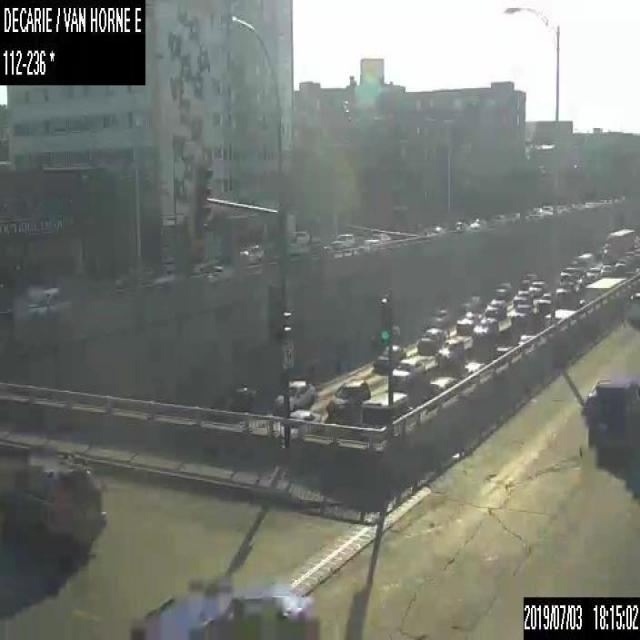vehicle: (127, 576, 319, 639), (1, 459, 103, 546), (583, 377, 639, 432), (360, 390, 412, 426), (325, 379, 370, 416), (270, 378, 316, 412), (580, 276, 627, 304), (602, 227, 635, 261), (214, 381, 256, 407), (391, 358, 424, 386), (424, 375, 458, 401), (374, 344, 406, 370), (436, 338, 463, 365), (418, 326, 444, 354), (472, 316, 499, 341), (544, 308, 575, 328), (236, 240, 264, 260), (284, 408, 319, 424), (456, 309, 481, 331), (461, 361, 486, 379), (485, 297, 506, 318), (509, 304, 532, 323), (626, 288, 639, 321), (330, 232, 354, 247), (362, 230, 390, 242), (513, 288, 532, 304), (494, 281, 510, 297), (536, 290, 552, 306), (529, 279, 546, 294), (494, 344, 512, 358), (522, 272, 536, 288), (586, 265, 600, 279), (470, 217, 486, 229), (517, 334, 536, 344), (600, 262, 612, 276)
